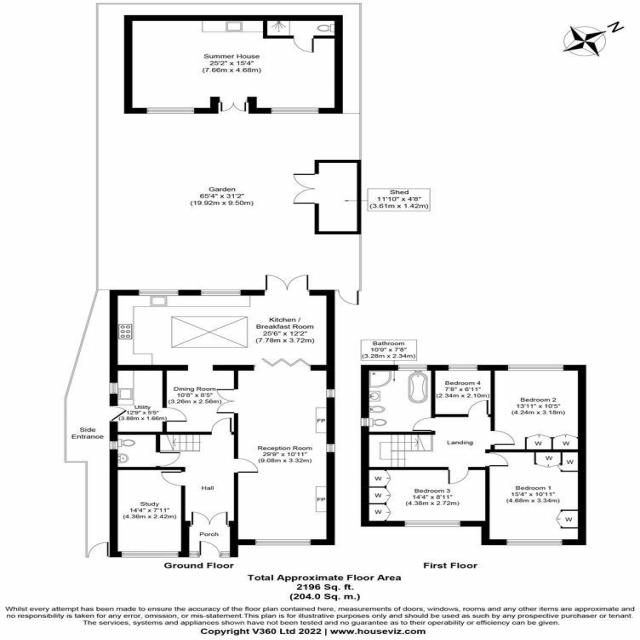DOOR: (233, 457, 259, 474), (162, 406, 188, 423), (467, 399, 489, 418), (160, 471, 186, 487), (155, 451, 181, 467), (210, 417, 233, 435), (490, 430, 515, 446), (447, 467, 470, 484), (484, 452, 509, 467), (411, 417, 436, 432), (109, 405, 128, 422)
DOUBLE DOOR: (263, 272, 310, 295), (212, 388, 239, 415), (190, 509, 229, 527)
FOLDING DOOR: (259, 355, 316, 371)
ROOM: (481, 449, 586, 545), (490, 364, 587, 453), (361, 467, 490, 527), (109, 467, 190, 558), (431, 365, 495, 417)
WINDOW: (505, 539, 564, 546), (120, 551, 179, 558), (403, 520, 461, 527), (254, 539, 312, 546), (507, 364, 564, 371), (200, 289, 242, 296), (138, 289, 180, 296), (397, 364, 428, 371), (447, 365, 478, 371), (109, 382, 118, 395), (326, 443, 336, 453), (360, 417, 369, 427), (326, 389, 335, 398), (109, 441, 118, 450)
